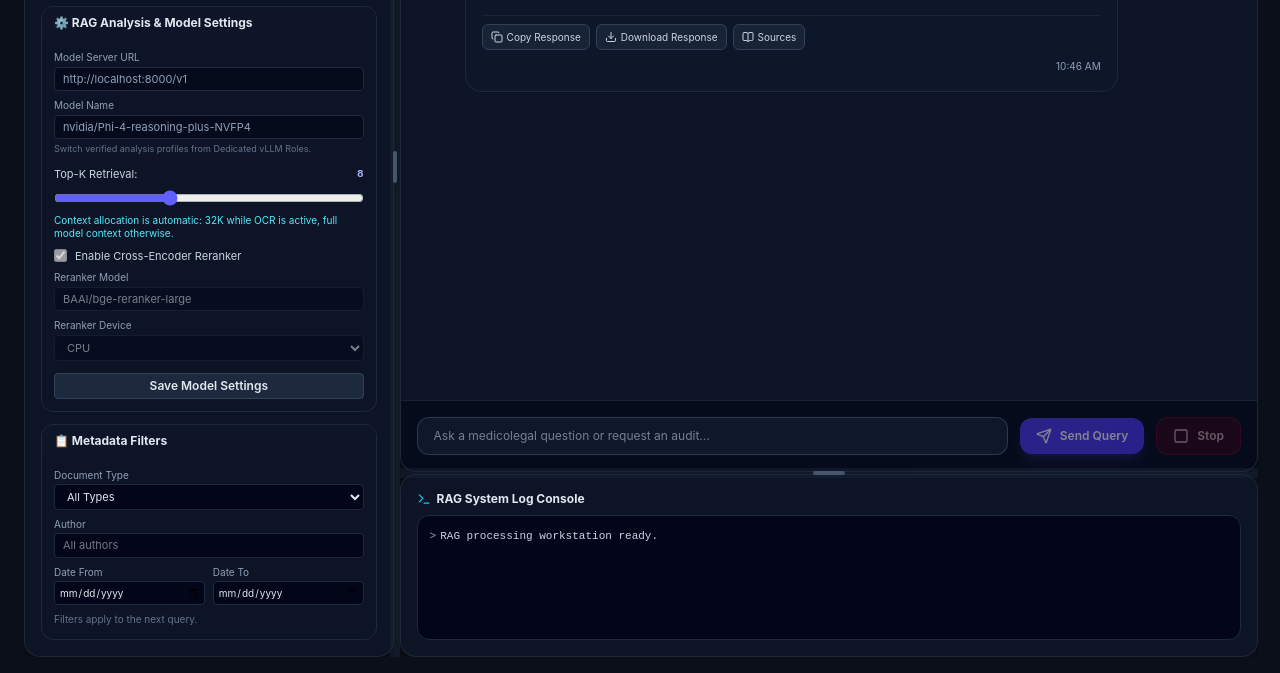
Test case: RagChat Component › exposes Gradio-equivalent stop and clear controls
The width and height of the screenshot is (1280, 673).
(page scrolled)
Check: the button with aria-label "Stop generating" is disabled, box x1=1156 y1=417 x2=1241 y2=455
Type "Build a timeline" into the field with placeholder "Ask a medicolegal question or request an audit..." at {"x": 712, "y": 436}, box x1=417 y1=417 x2=1008 y2=455
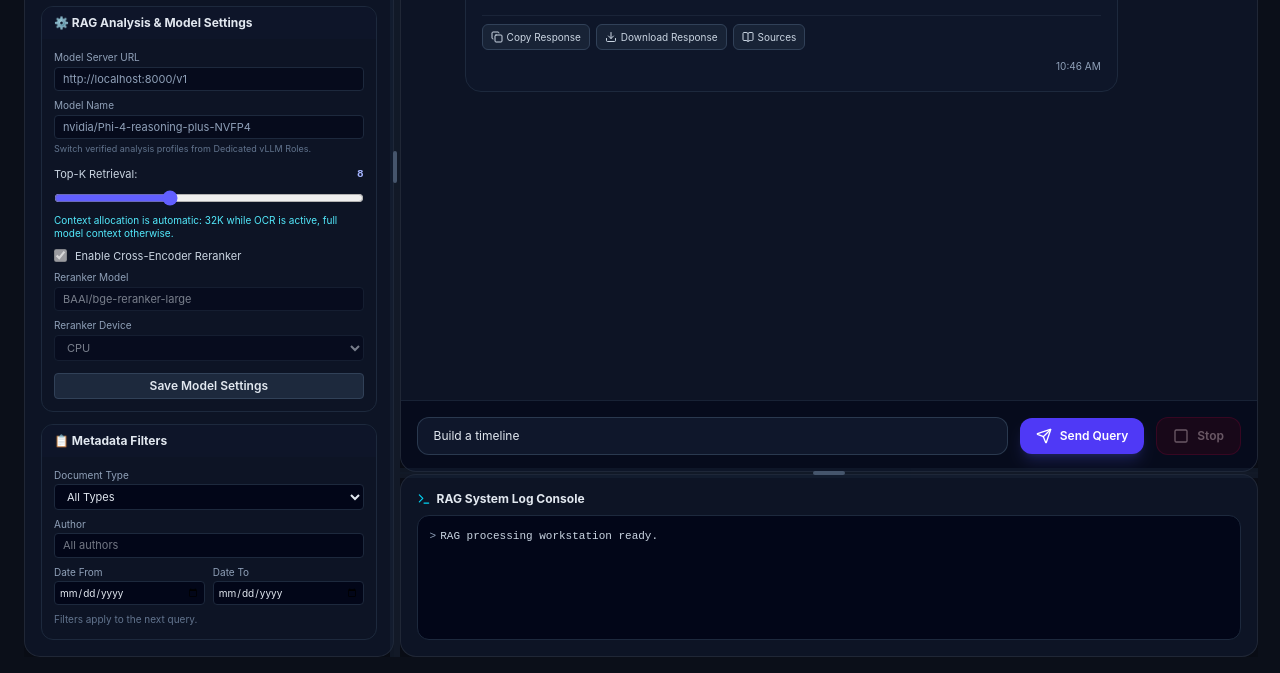
Click the button "Send Query" at {"x": 1082, "y": 436}, box x1=1020 y1=418 x2=1144 y2=454
(page scrolled)
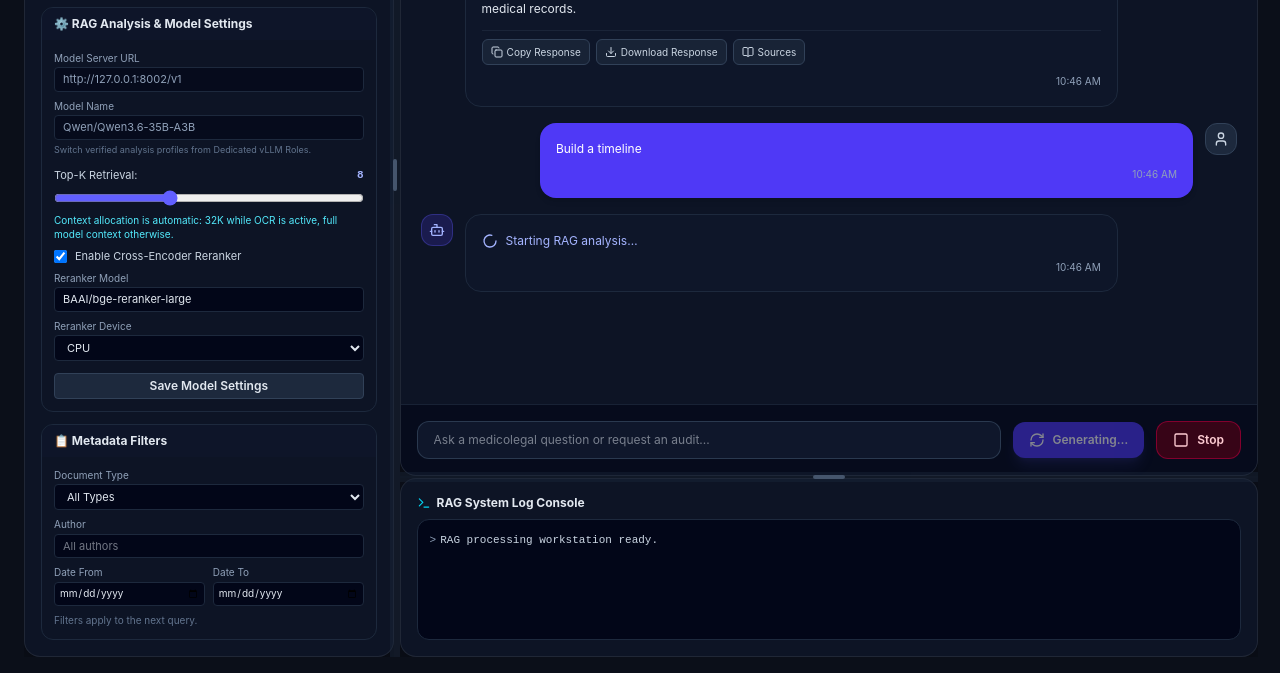
Check: the button with aria-label "Stop generating" is enabled
Click the button with aria-label "Stop generating" at {"x": 1199, "y": 440}, box x1=1156 y1=421 x2=1241 y2=459
(page scrolled)
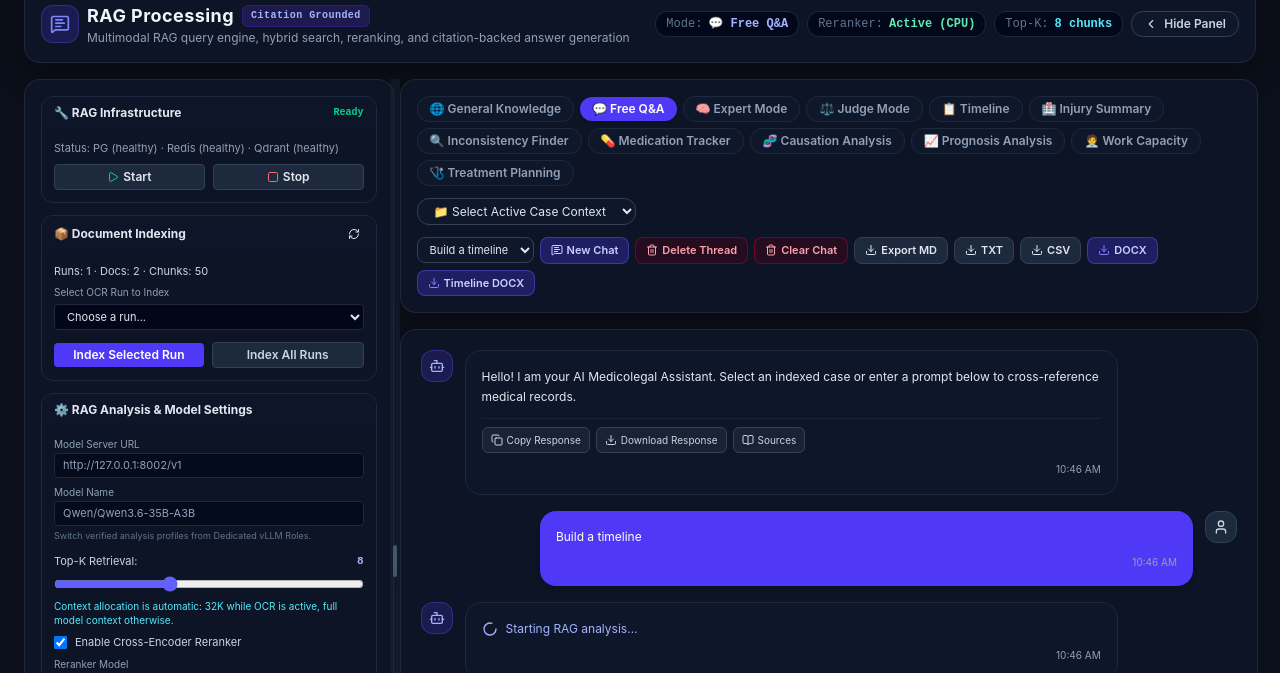
Click the button "Clear Chat" at {"x": 801, "y": 250}, box x1=754 y1=237 x2=848 y2=264
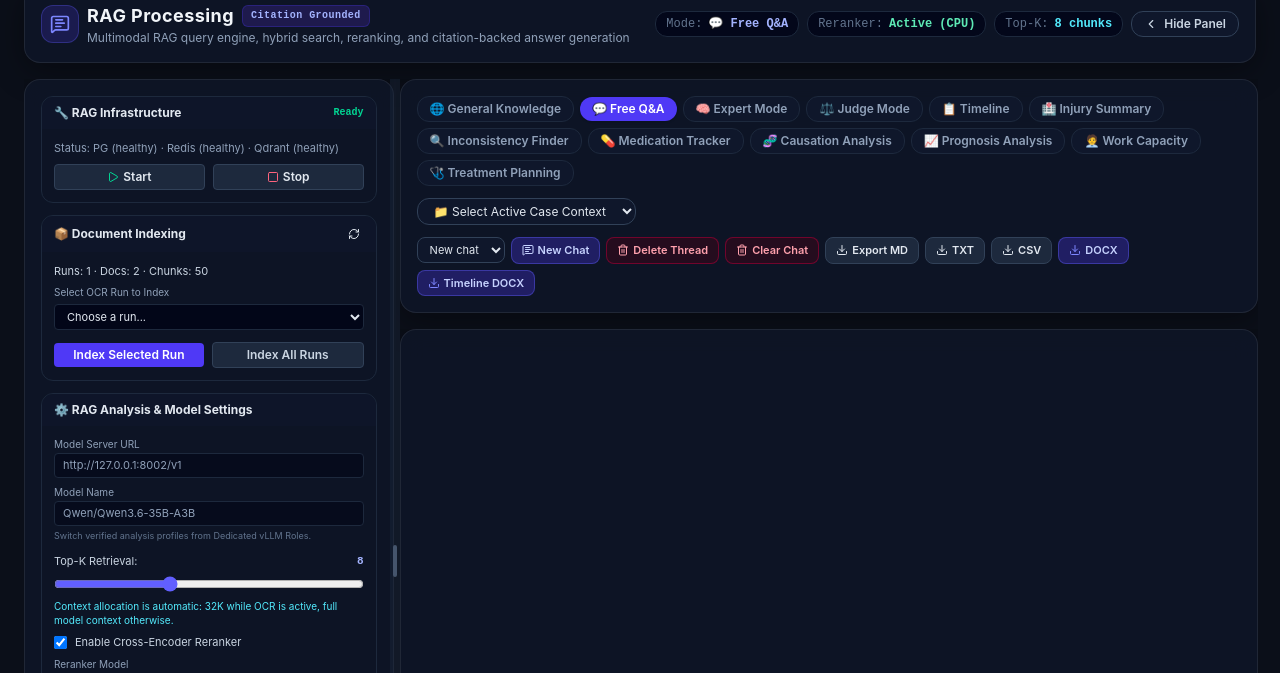
Check: the text "Build a timeline" is gone
